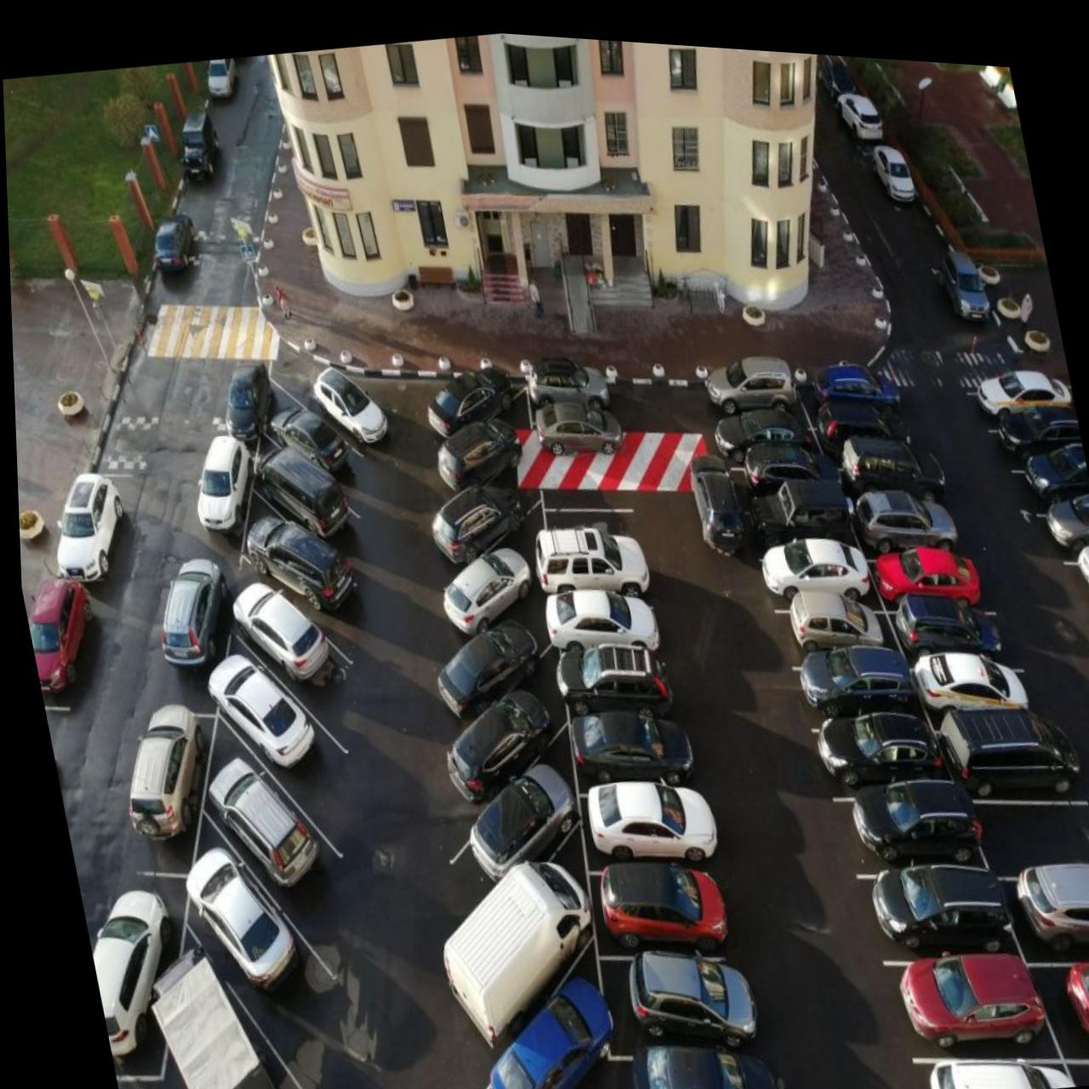cars: (418, 838, 618, 1036), (187, 824, 340, 1071), (206, 738, 342, 970), (79, 871, 206, 1089), (444, 739, 595, 899), (226, 653, 353, 834), (427, 668, 573, 818), (882, 943, 1047, 1071), (157, 952, 309, 1089), (242, 561, 364, 729), (248, 490, 361, 660), (109, 707, 229, 866), (452, 981, 620, 1089), (603, 938, 751, 1057), (424, 597, 558, 727), (858, 855, 1008, 969), (589, 851, 739, 961), (839, 777, 984, 890), (575, 769, 719, 877), (49, 455, 154, 595), (563, 700, 699, 802), (812, 703, 945, 805), (21, 569, 114, 711), (255, 434, 358, 561), (144, 581, 245, 708), (434, 532, 552, 639), (552, 630, 682, 723), (290, 337, 389, 448), (541, 573, 662, 662), (179, 433, 262, 556), (428, 480, 535, 575), (796, 643, 917, 727), (954, 712, 1063, 805), (765, 534, 882, 618), (774, 592, 900, 668), (912, 651, 1030, 730), (620, 1032, 783, 1089), (266, 390, 365, 483), (534, 519, 657, 593), (1007, 853, 1089, 960), (420, 365, 528, 446), (894, 594, 1006, 672), (434, 413, 532, 501), (875, 537, 982, 614), (757, 482, 864, 558), (737, 443, 836, 514), (720, 401, 823, 466), (968, 366, 1072, 429), (710, 360, 807, 423), (856, 486, 953, 547), (995, 410, 1086, 475), (820, 402, 915, 463), (840, 443, 933, 504), (810, 353, 898, 416), (1042, 944, 1089, 1059), (1023, 444, 1089, 516), (1046, 486, 1089, 560)
empty: (976, 792, 1089, 877), (535, 491, 641, 554)
